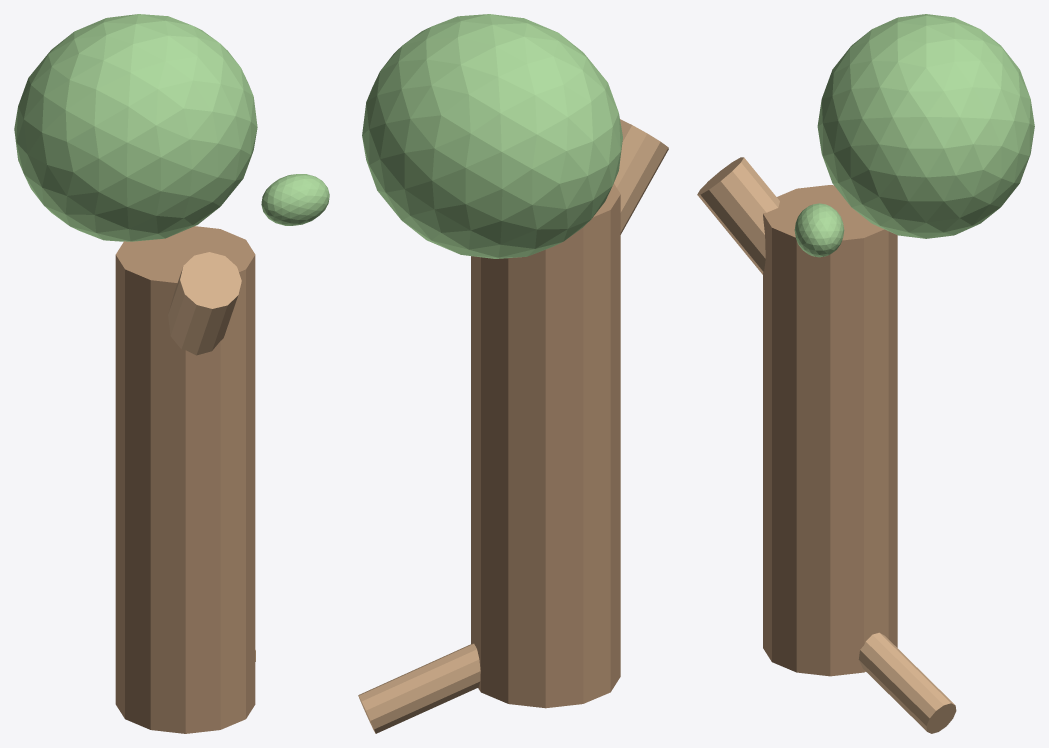
Rendered from tree.glb.
3 renders of one model, left to right at view 1: azimuth 30°, elevation 25°; view 2: azimuth 150°, elevation 25°; view 3: azimuth 270°, elevation 25°, orthographic. The views are drawn at different scales.
Visible parts, largest first — view 1: trunk, canopy, branch, leaf_cluster; view 2: trunk, canopy, root, branch; view 3: trunk, canopy, branch, root, leaf_cluster.
Part boxes in pixels (x1,y1,x2,y2): trunk: [115, 226, 255, 733]; canopy: [14, 14, 257, 241]; branch: [168, 252, 241, 355]; leaf_cluster: [261, 174, 329, 225]; trunk: [471, 183, 620, 708]; canopy: [362, 14, 622, 258]; root: [358, 643, 480, 733]; branch: [614, 119, 668, 234]; trunk: [763, 185, 897, 676]; canopy: [817, 14, 1034, 238]; branch: [697, 157, 779, 274]; root: [858, 632, 956, 733]; leaf_cluster: [794, 203, 844, 257].
Bounding box in the file's own units: 0.9394 × 2.5 × 1.16.
